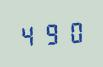four: (18, 22, 39, 47)
nine: (41, 20, 62, 46)
zero: (63, 19, 84, 44)
